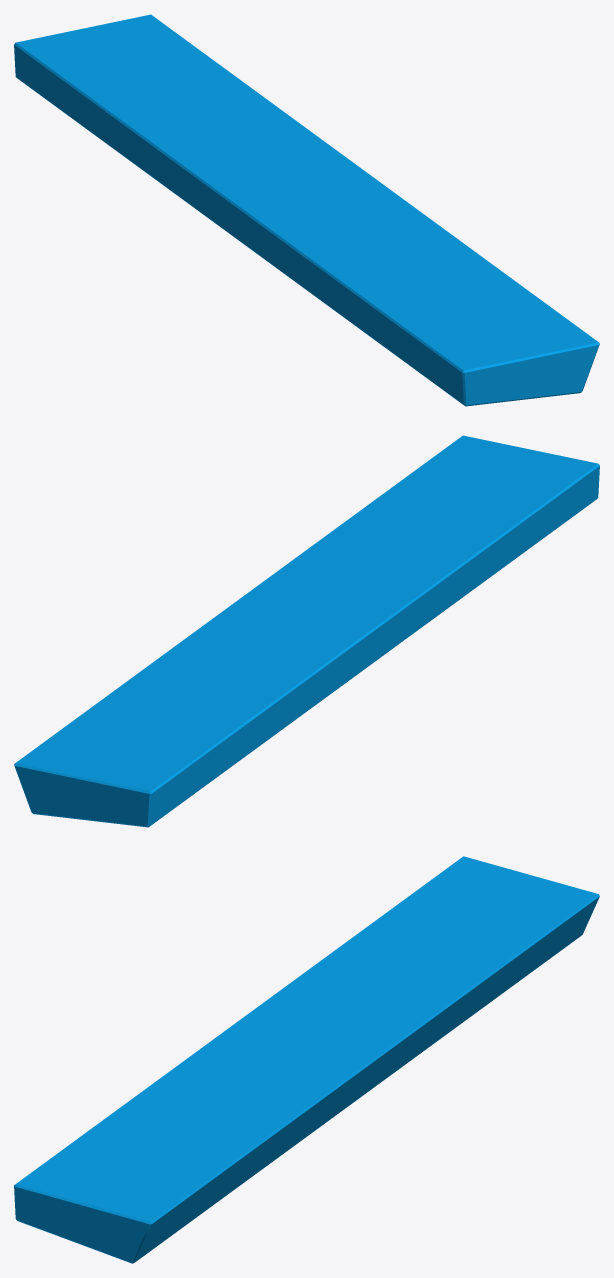
Rendered from Backbox_Base.fbx.
3 views of the same model, one above another, from view 1: azimuth 30°, elevation 25°; view 2: azimuth 150°, elevation 25°; view 3: azimuth 330°, elevation 25° (orthographic).
Visible parts, largest first — view 1: Backbox_Base; view 2: Backbox_Base; view 3: Backbox_Base.
Part boxes in pixels (<box>): Backbox_Base: <box>14,14,599,406</box>; Backbox_Base: <box>14,435,599,827</box>; Backbox_Base: <box>14,856,599,1263</box>.
Bounding box in the file's own units: 9.4 × 3.31 × 53.05.
